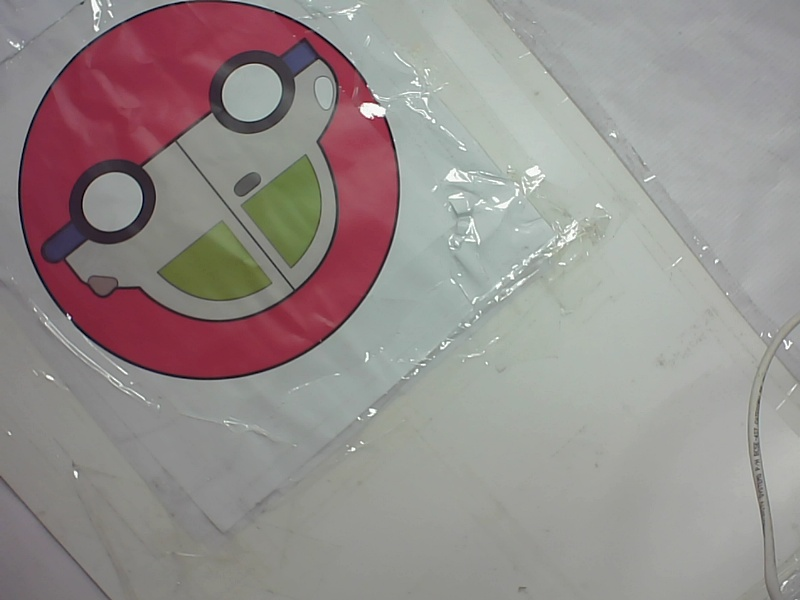areaC: (17, 5, 418, 384)
